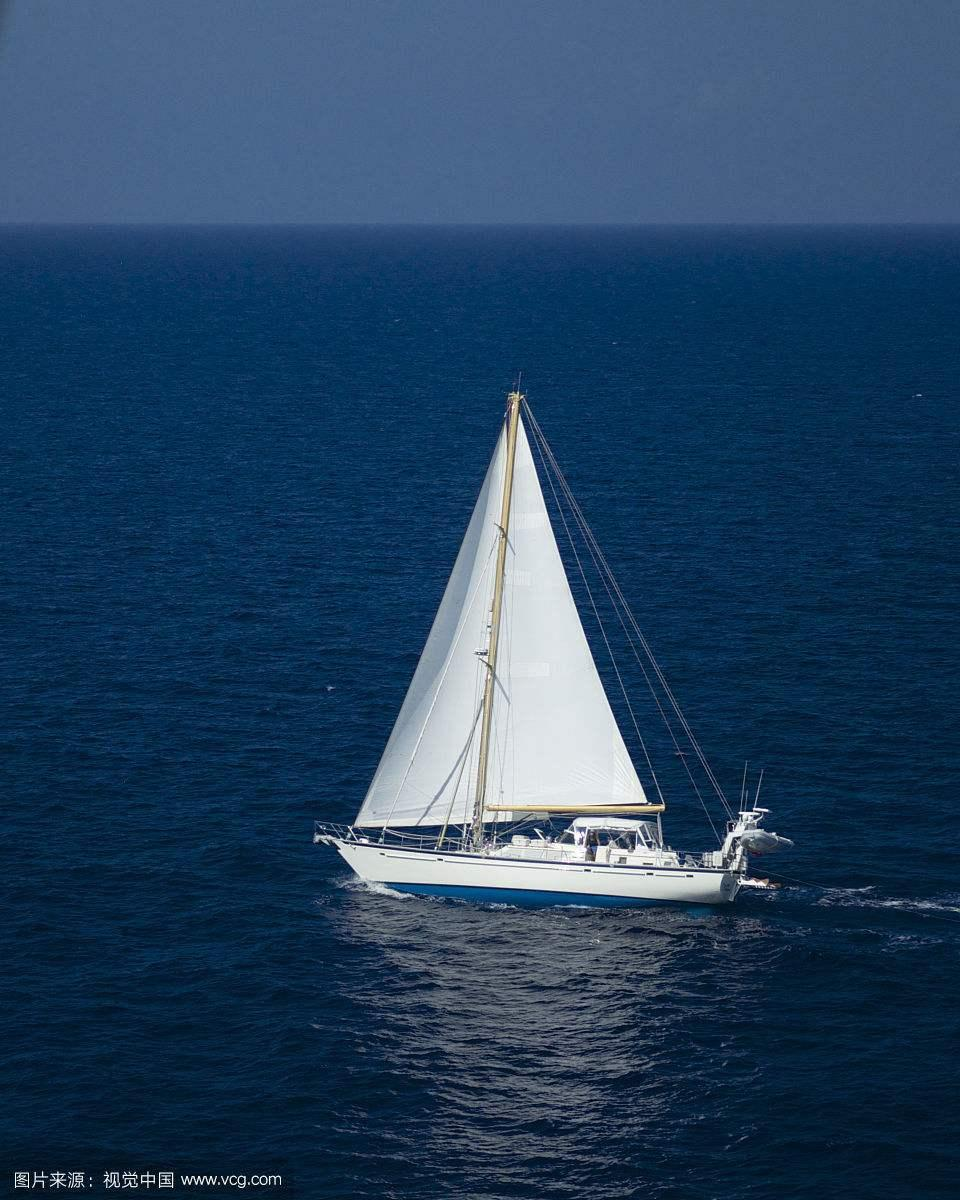fanchuan: (317, 381, 778, 908)
